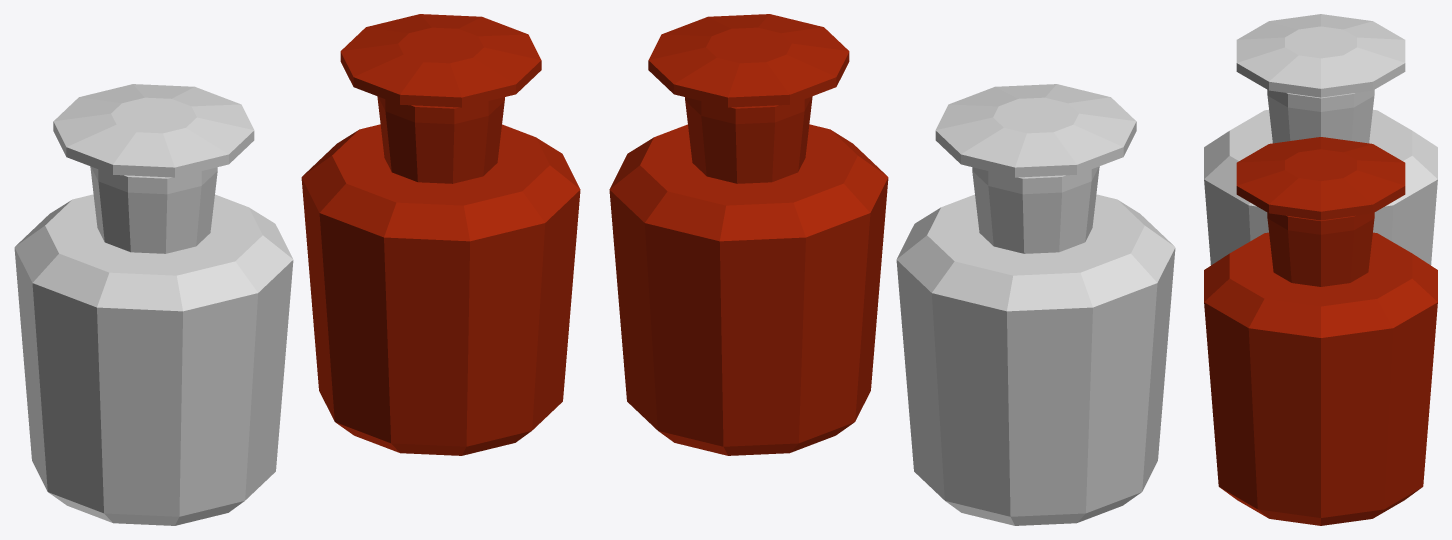
File: bottle.fbx
The picture shows the model from 3 angles, left to right: view 1: azimuth 30°, elevation 25°; view 2: azimuth 150°, elevation 25°; view 3: azimuth 270°, elevation 25°; orthographic projection. The views are drawn at different scales.
Parts seen in each view (by area): view 1: Bottle_2, Bottle_1; view 2: Bottle_2, Bottle_1; view 3: Bottle_2, Bottle_1.
Boxes of the visible parts, box(x1,y1,x2,y2) form: Bottle_2: box(301, 14, 580, 455); Bottle_1: box(14, 84, 293, 525); Bottle_2: box(609, 14, 888, 455); Bottle_1: box(896, 84, 1175, 525); Bottle_2: box(1204, 137, 1437, 525); Bottle_1: box(1204, 14, 1437, 265).
Bounding box in the file's own units: 35.21 × 23.42 × 15.35.
1 material, 1 textured.
